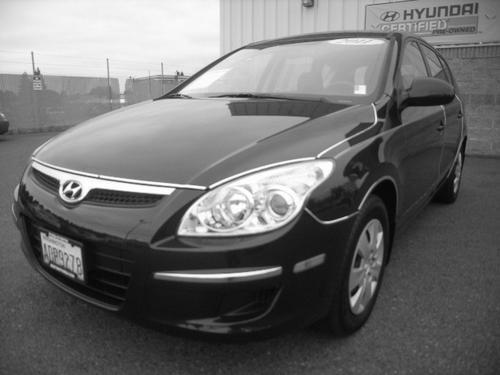car: (12, 31, 471, 350)
